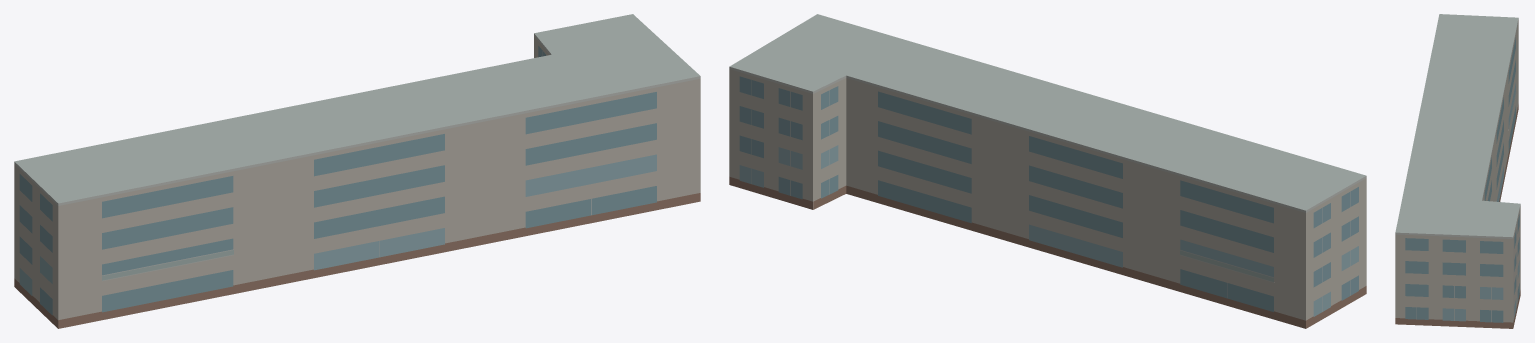
The model's file is survey-upis-32979370.glb.
3 views of the same model, side by side, from view 1: azimuth 30°, elevation 25°; view 2: azimuth 150°, elevation 25°; view 3: azimuth 270°, elevation 25° (orthographic). The views are drawn at different scales.
Parts seen in each view (by area): view 1: survey-upis-32979370.tmp; view 2: survey-upis-32979370.tmp; view 3: survey-upis-32979370.tmp.
Boxes of the visible parts, x1,y1,x2,y2 form: survey-upis-32979370.tmp: (14,14,700,328); survey-upis-32979370.tmp: (729,14,1366,328); survey-upis-32979370.tmp: (1395,14,1520,328).
Size of the model in its own units: 63.66 by 12.2 by 15.1.
